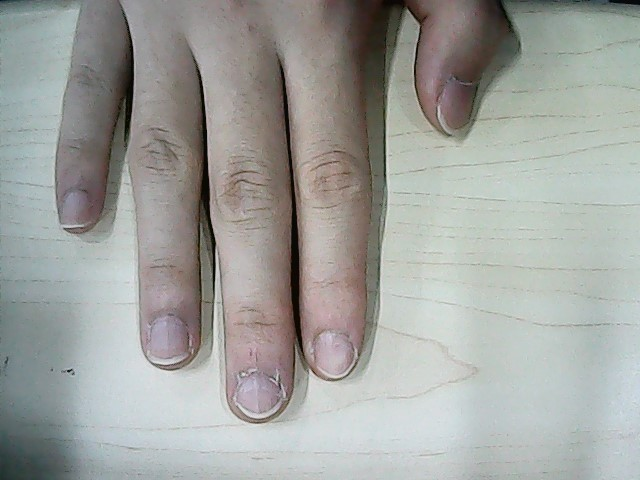nail: (235, 374, 282, 421), (146, 317, 192, 364), (314, 331, 355, 380), (437, 80, 472, 137), (58, 193, 89, 229)
